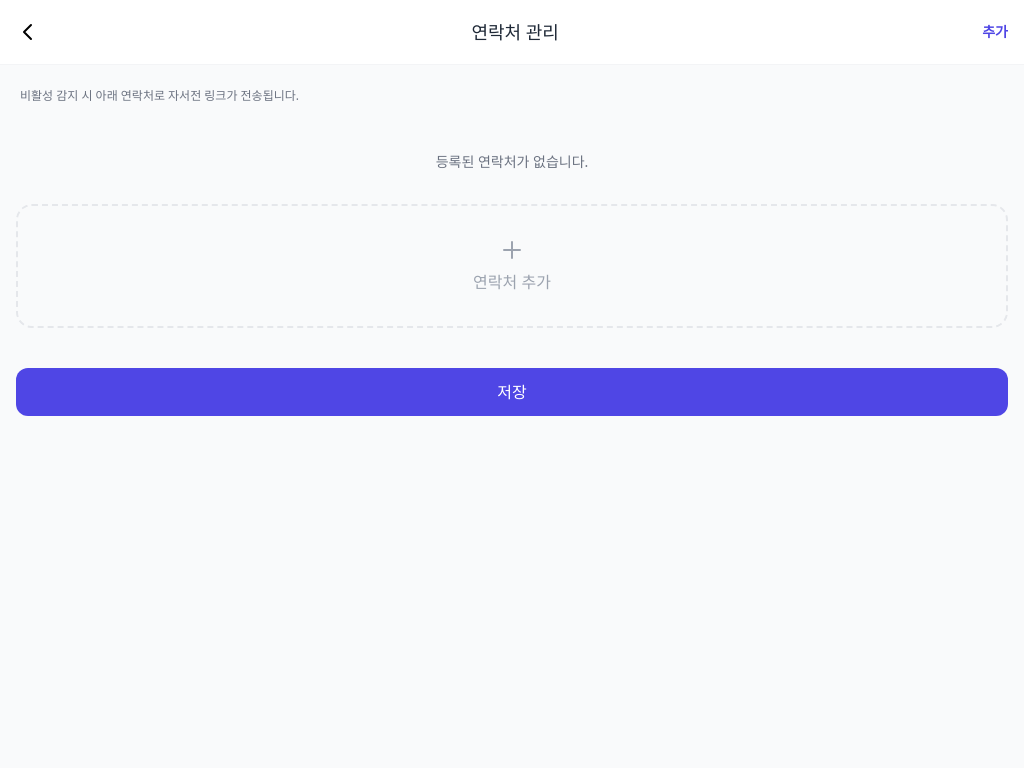
it: Settings Contacts Flow - Integration Test › Full Contacts Edit Flow › should complete: load → add card → fill fields → save → success toast
This screenshot has width=1024, height=768.
Note: Act — Step 2: Add a new contact card
Click the button with test id "add-contact-button" at (512, 282), box [16,204,1008,328]
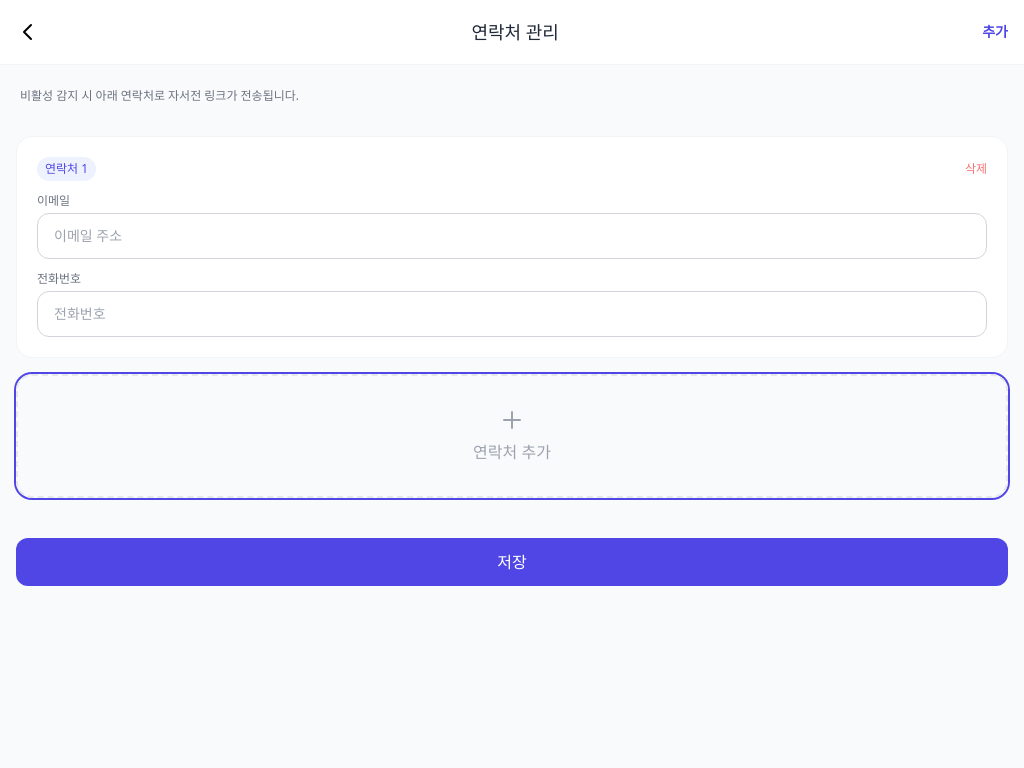
Type "full@example.com" into the field with test id "contact-email" at (512, 236), box [37,213,987,259]
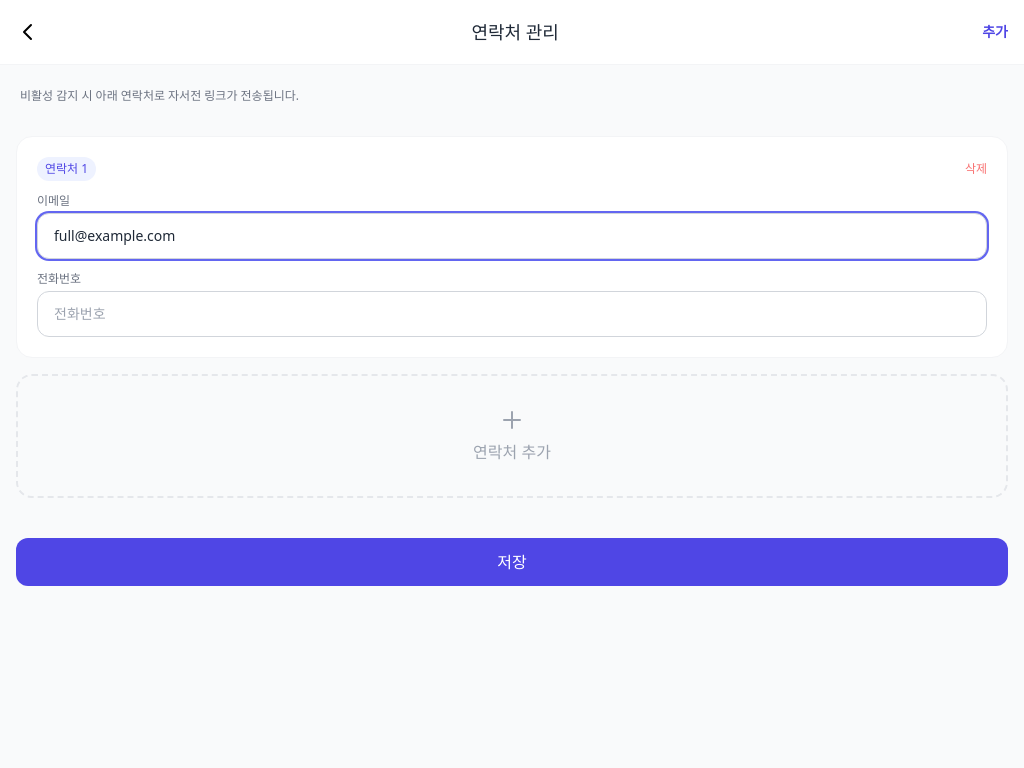
Type "010-7777-8888" into the field with test id "contact-phone" at (512, 314), box [37,291,987,337]
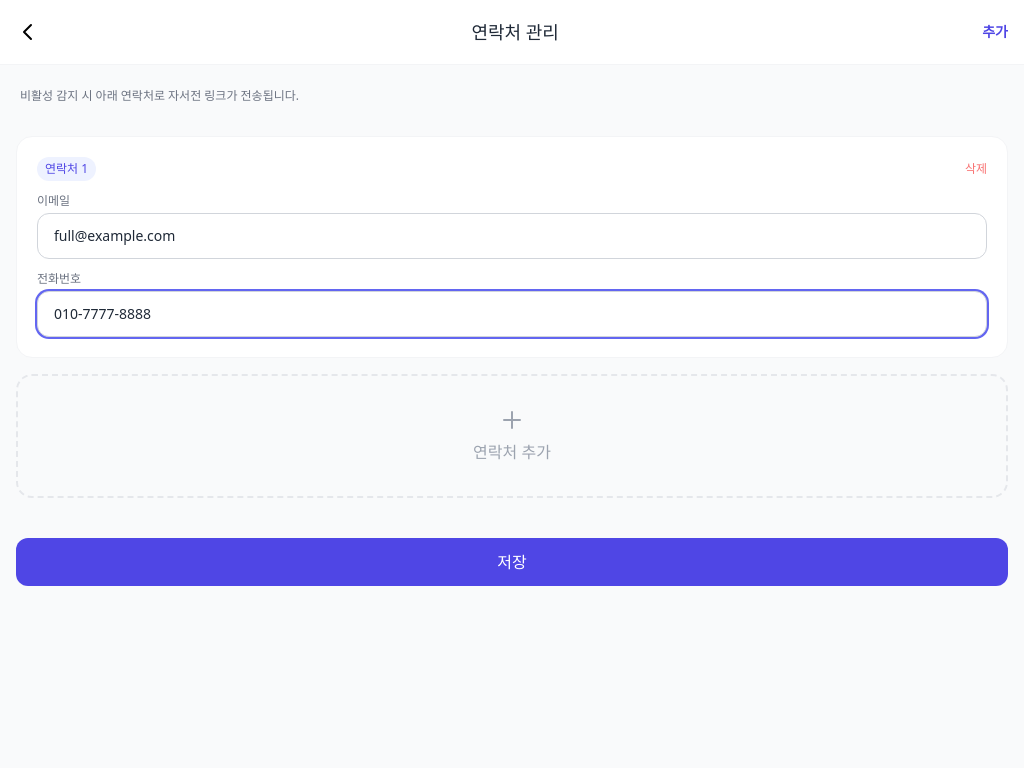
Note: Act — Step 3: Save
Click the button "저장" at (512, 562), box [16,538,1008,586]
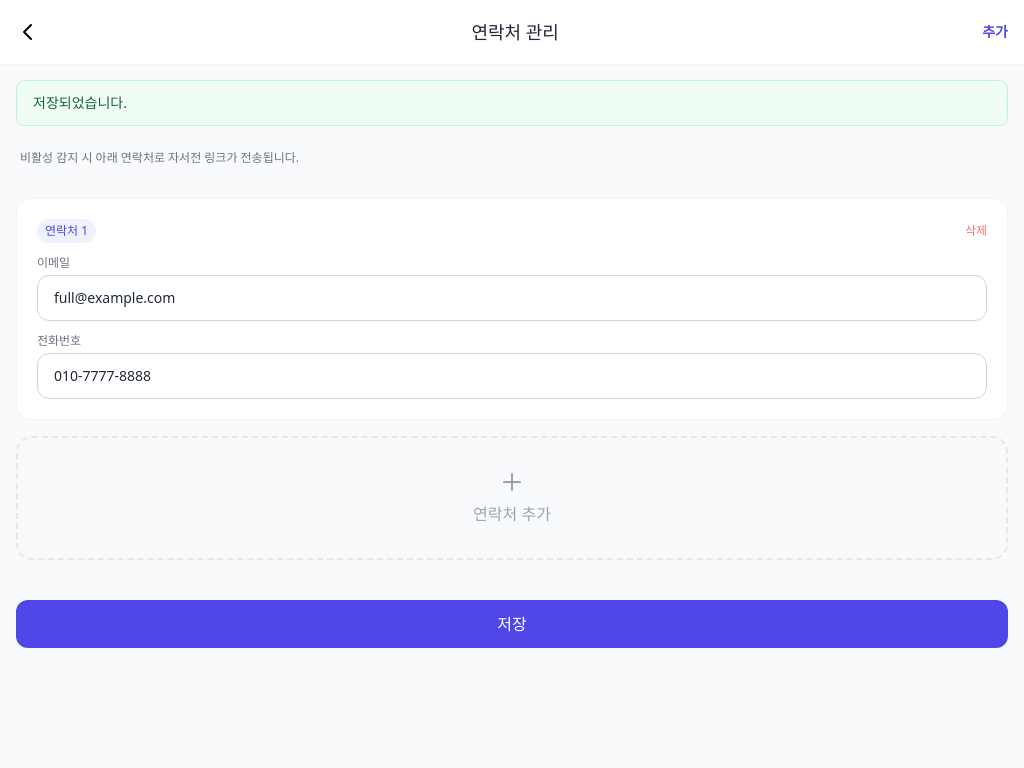
Result: the text "저장되었습니다." is shown at [16,80,1008,126]
